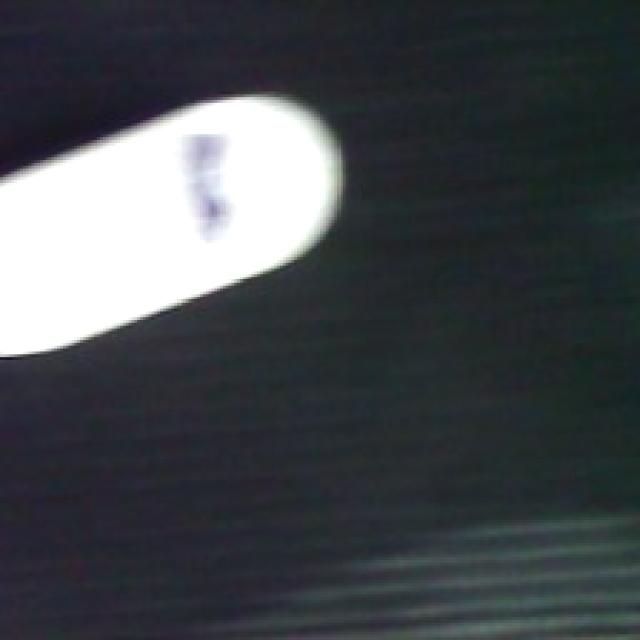defected: (0, 89, 346, 365)
